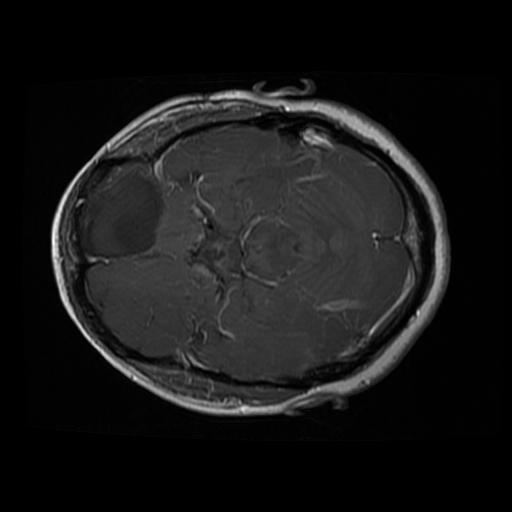glioma: (78, 160, 165, 267)
